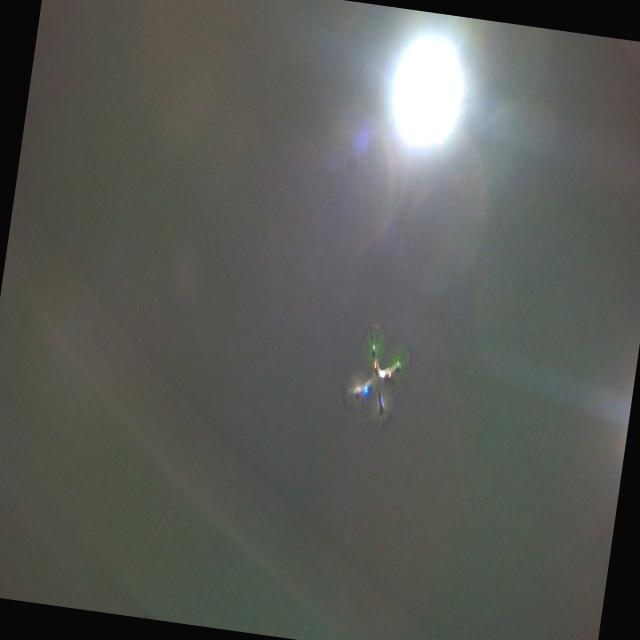drone: (336, 317, 419, 434)
